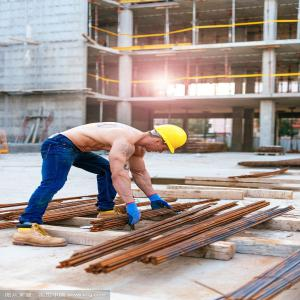yellow: (146, 124, 189, 155)
